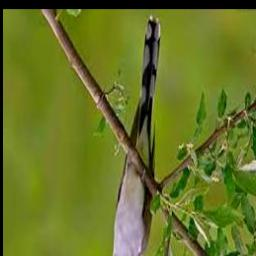Cuckoo: (96, 16, 161, 256)
